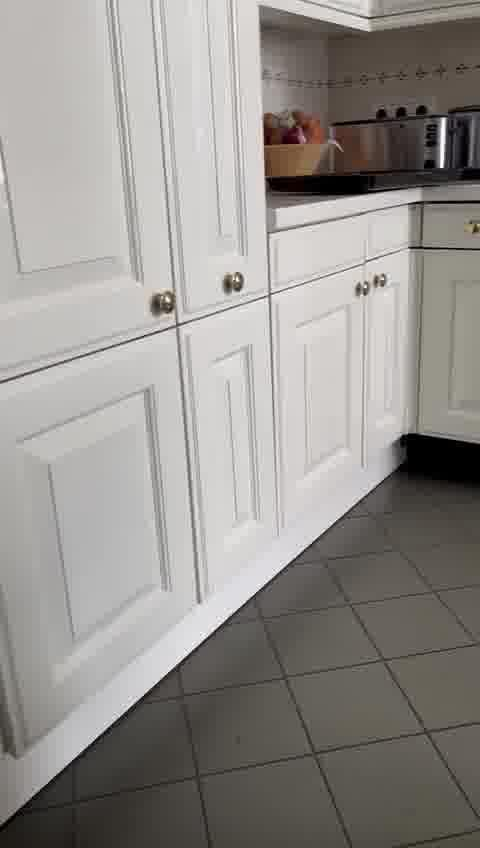cabinet_door: (0, 0, 178, 329), (169, 0, 268, 308), (279, 265, 368, 517), (368, 254, 416, 451), (425, 205, 480, 246)
handle: (141, 288, 179, 321), (213, 264, 246, 300), (370, 267, 389, 298), (352, 276, 368, 304), (466, 214, 480, 236)
